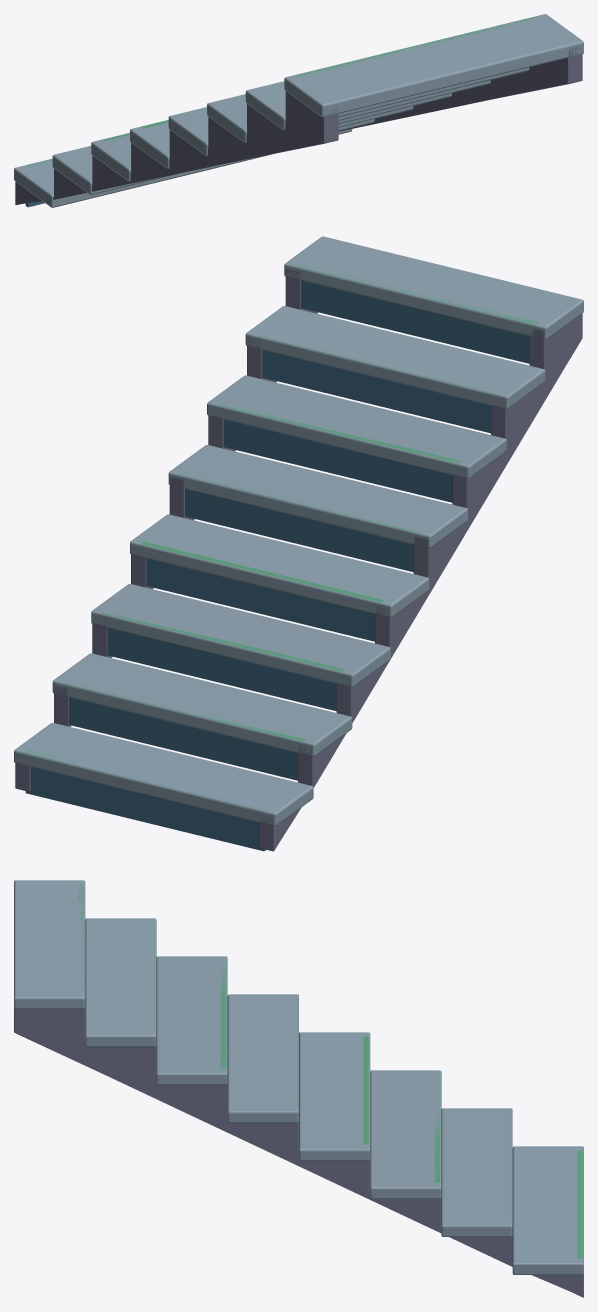
File: stairs.glb
The picture shows the model from 3 angles, top to bottom: view 1: azimuth 30°, elevation 25°; view 2: azimuth 150°, elevation 25°; view 3: azimuth 270°, elevation 25°; orthographic projection. The views are drawn at different scales.
Visible parts, largest first — view 1: stairs; view 2: stairs; view 3: stairs.
Part boxes in pixels (x1=…): stairs: x1=14, y1=14, x2=583, y2=207; stairs: x1=14, y1=236, x2=583, y2=851; stairs: x1=14, y1=880, x2=583, y2=1297.
Size of the model in its own units: 1 by 1.2 by 2.04.
